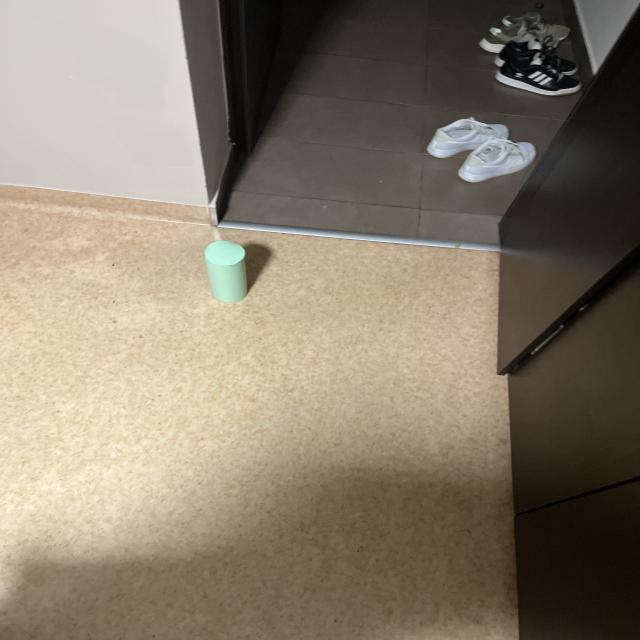meta: (204, 240, 247, 302)
